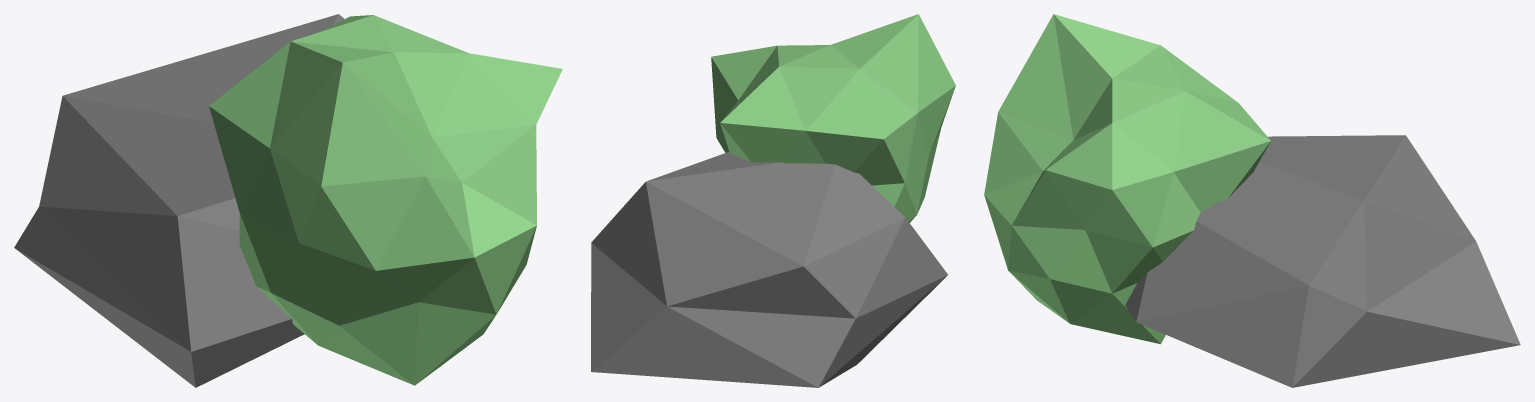
File: Rock3.fbx
The picture shows the model from 3 angles, left to right: view 1: azimuth 30°, elevation 25°; view 2: azimuth 150°, elevation 25°; view 3: azimuth 270°, elevation 25°; orthographic projection. The views are drawn at different scales.
Parts seen in each view (by area): view 1: Icosphere, Icosphere.001; view 2: Icosphere.001, Icosphere; view 3: Icosphere.001, Icosphere.
Part boxes in pixels (x1,y1,x2,y2): Icosphere: (209,15,562,385); Icosphere.001: (14,14,344,387); Icosphere.001: (591,152,947,387); Icosphere: (711,14,955,222); Icosphere.001: (1125,135,1520,387); Icosphere: (984,14,1270,344).
Bounding box in the file's own units: 296 × 276 × 419.
